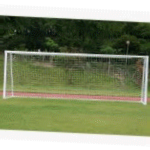goals: (1, 48, 150, 105)
